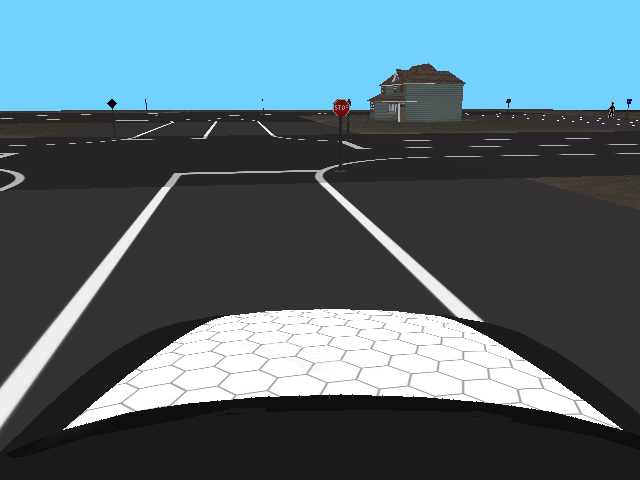stop: (332, 99, 351, 117)
